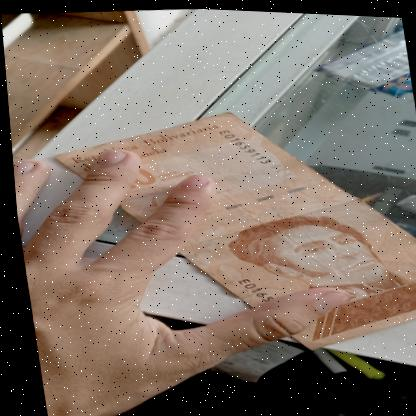vef_front: (44, 91, 416, 368)
